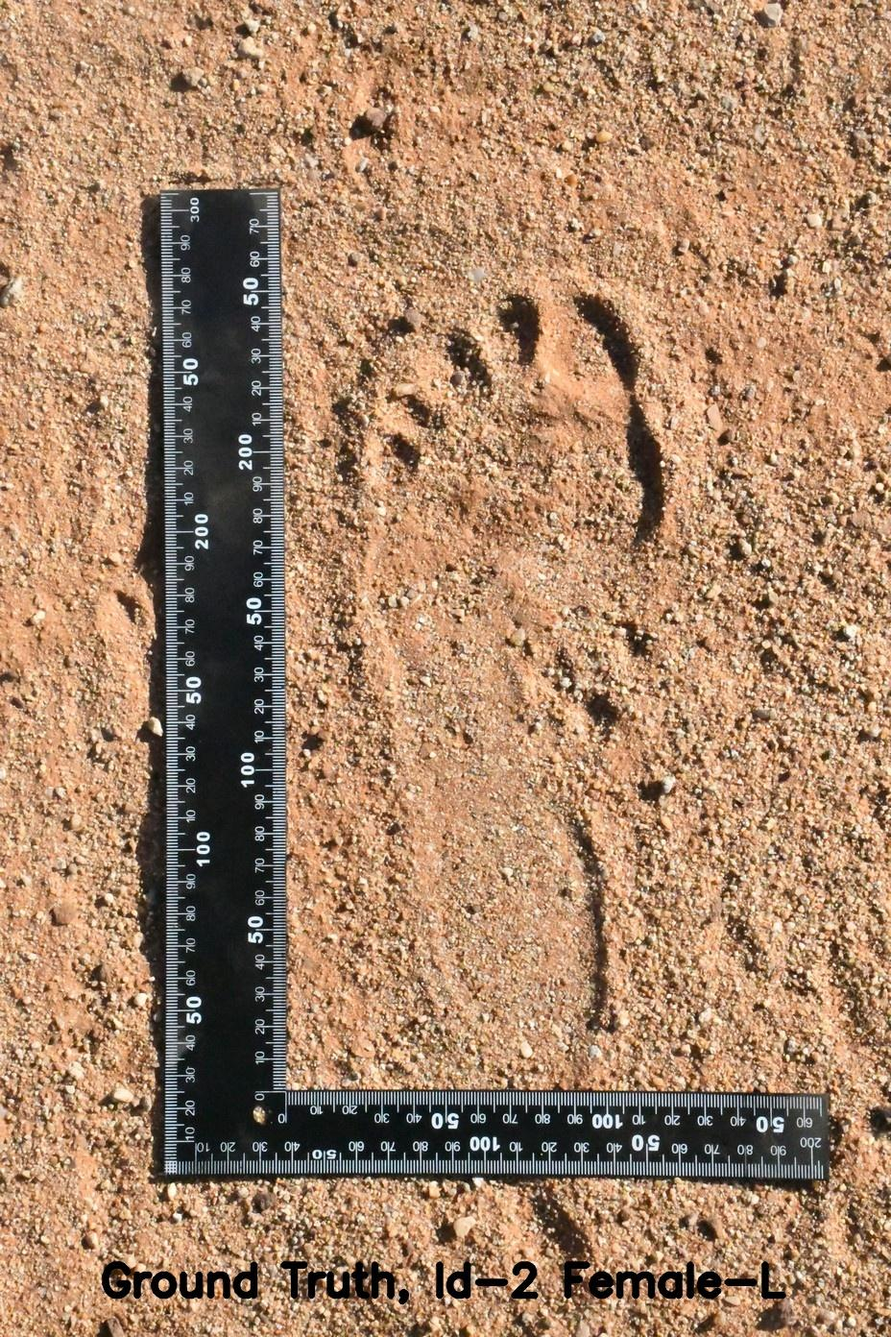human_foot_print: (321, 199, 705, 1088)
